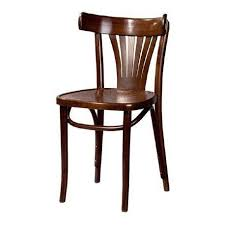tiyarina: (49, 9, 175, 216)
